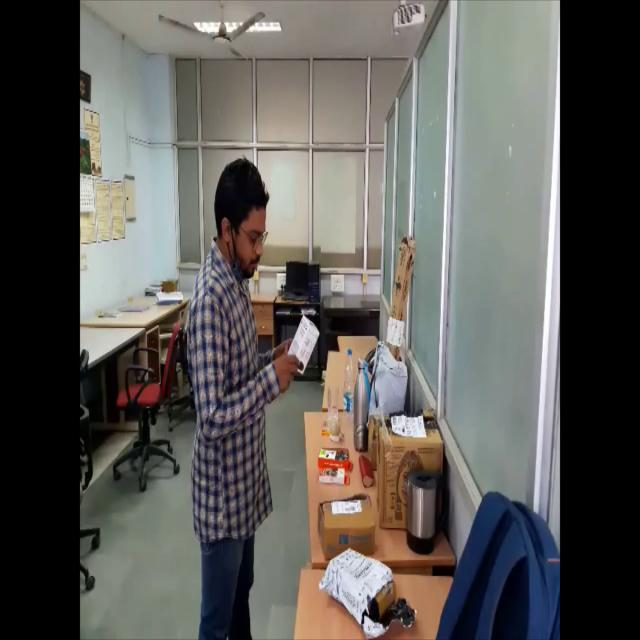normal: (176, 149, 321, 640)
